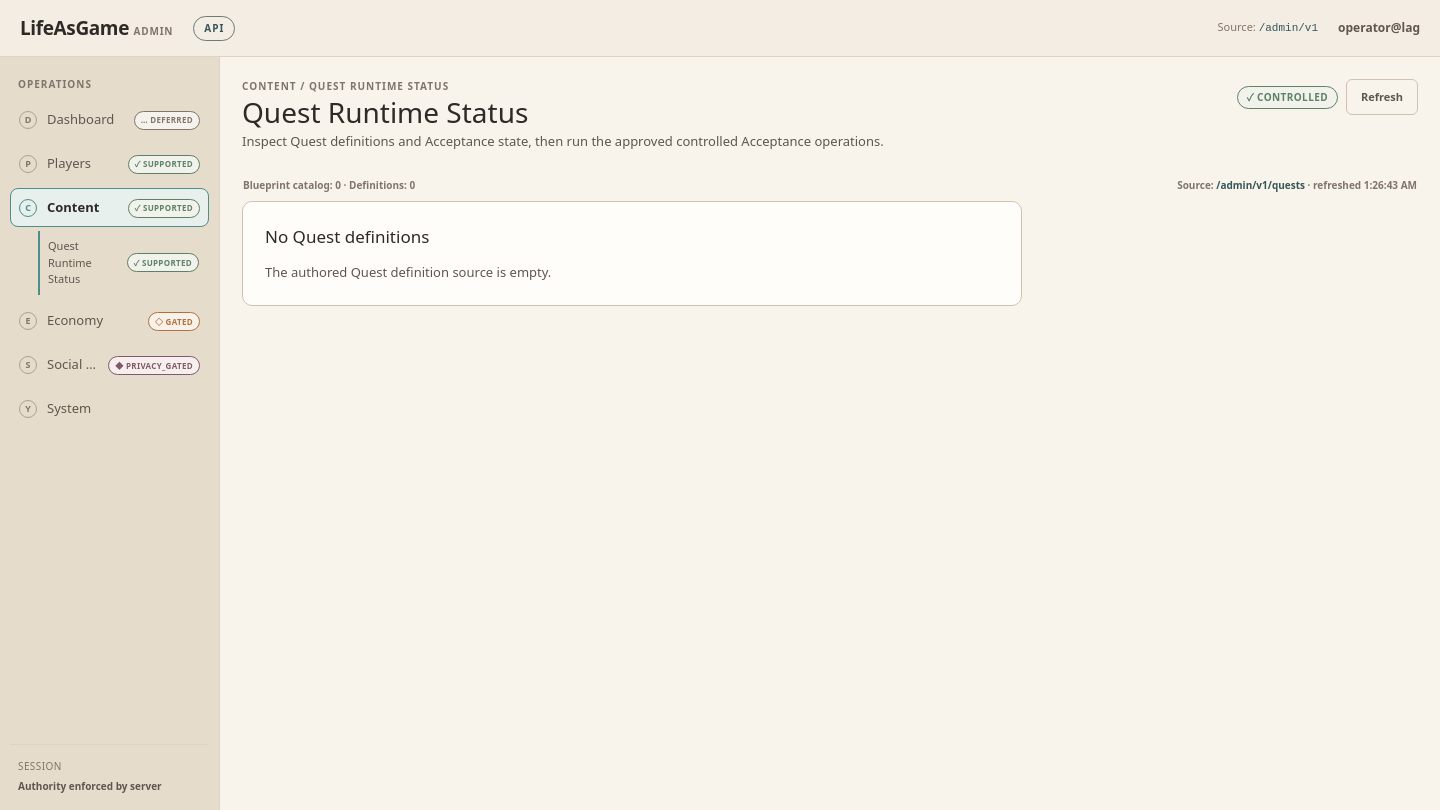
Scenario: /admin route › composes Quest Runtime Status and preserves Player Lookup and Audit
The image size is (1440, 810).
Expected: the text "operator@lag" is shown, [1338,19,1420,37]
Expected: the text "API" is shown, [193,16,235,40]
Click the button with aria-label "Players, SUPPORTED": [110, 164] box [10,144,209,183]
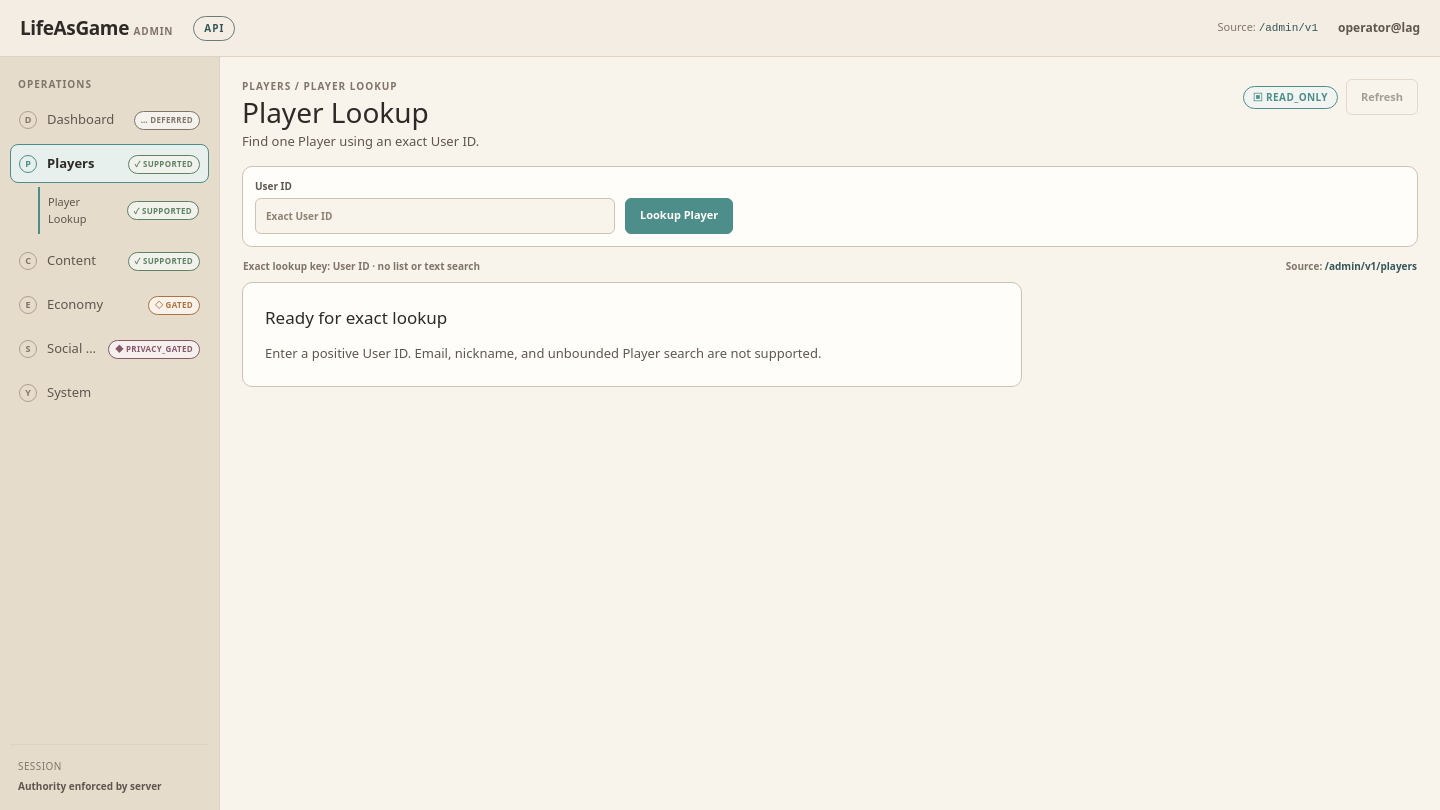
Expected: the heading "Player Lookup" is shown, [242,93,429,131]
Expected: the heading "Ready for exact lookup" is shown, [265,306,447,329]
Click the button with aria-label "System, SUPPORTED": [110, 392] box [10,373,209,412]
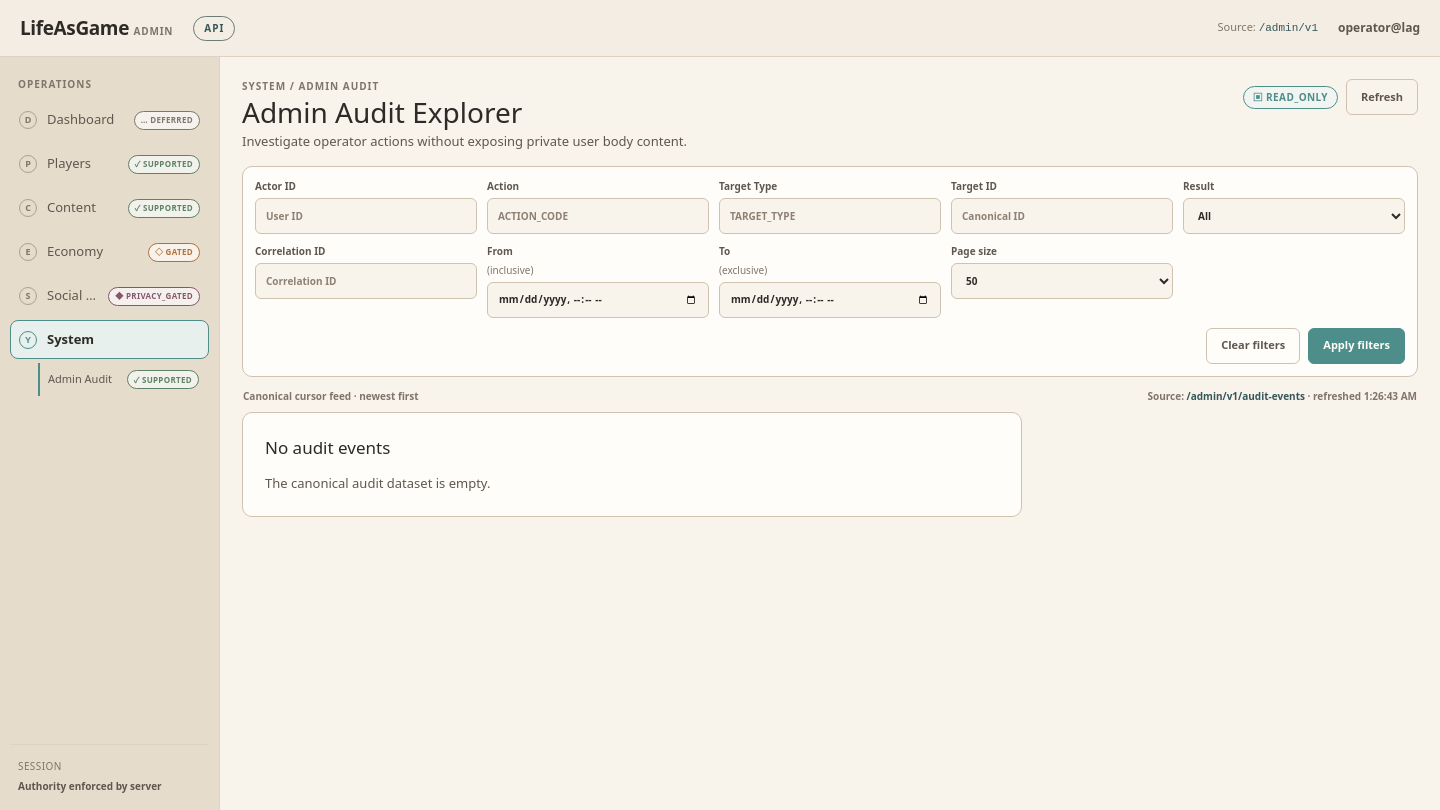
Expected: the heading "Admin Audit Explorer" is shown, [242,93,522,131]
Expected: the heading "No audit events" is shown, [265,436,390,459]
